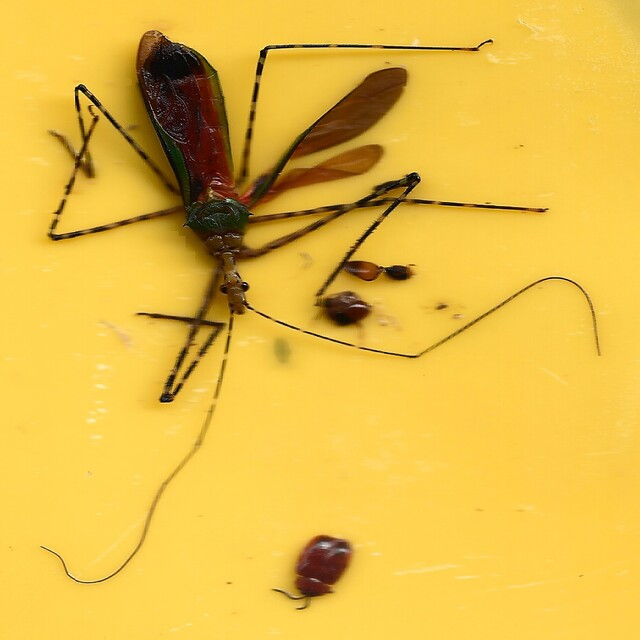Coleoptera: (272, 535, 353, 610), (320, 291, 372, 328)
Hemiptera: (38, 30, 602, 584)
